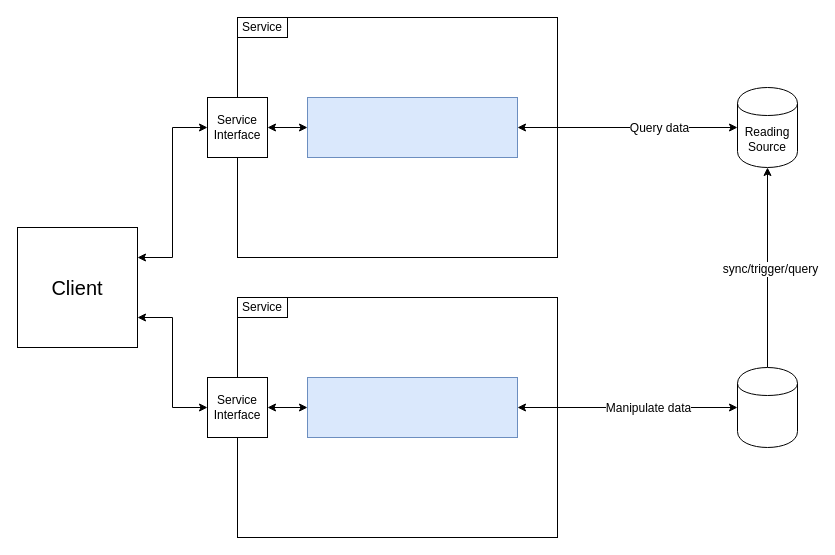
This 835x555 diagram has some shape labels left out. Each missing label, with the centre of its shape:
Command Model: point 412,407
Query Model: point 412,127
Saving Source: point 767,407
